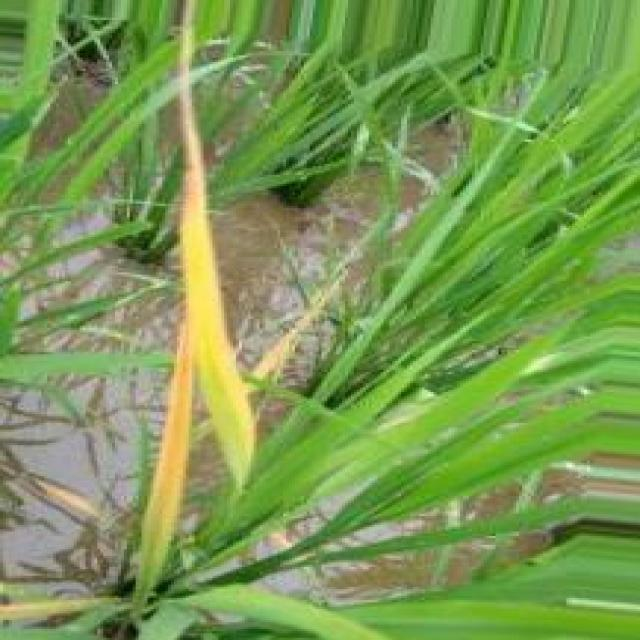Rice Tungro: (142, 0, 256, 603), (180, 0, 256, 484), (251, 269, 342, 382)
